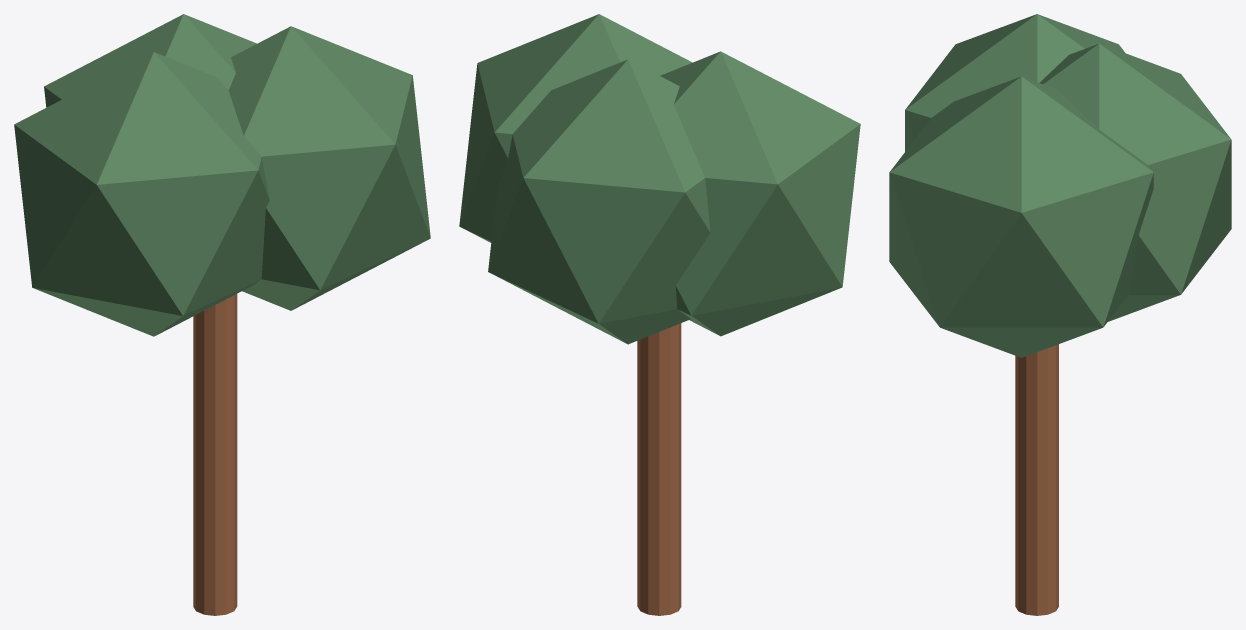
File: small_tree.glb
The picture shows the model from 3 angles, left to right: view 1: azimuth 30°, elevation 25°; view 2: azimuth 150°, elevation 25°; view 3: azimuth 270°, elevation 25°; orthographic projection.
Parts seen in each view (by area): view 1: small_tree.001; view 2: small_tree.001; view 3: small_tree.001.
Part boxes in pixels (x1,y1,x2,y2): small_tree.001: (14, 14, 430, 615); small_tree.001: (459, 14, 860, 615); small_tree.001: (889, 14, 1231, 615).
Bounding box in the file's own units: 2.74 × 4 × 2.2.
